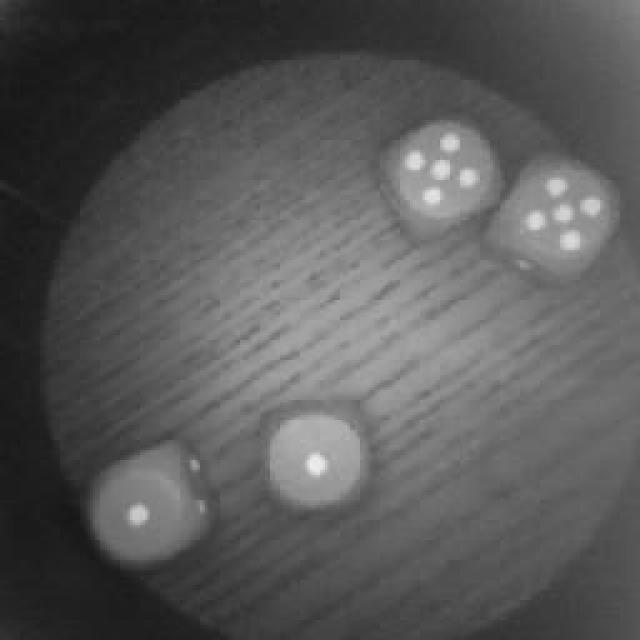dice_1: (65, 435, 223, 577), (250, 393, 385, 525)
dice_5: (485, 148, 623, 288), (377, 108, 505, 242)
